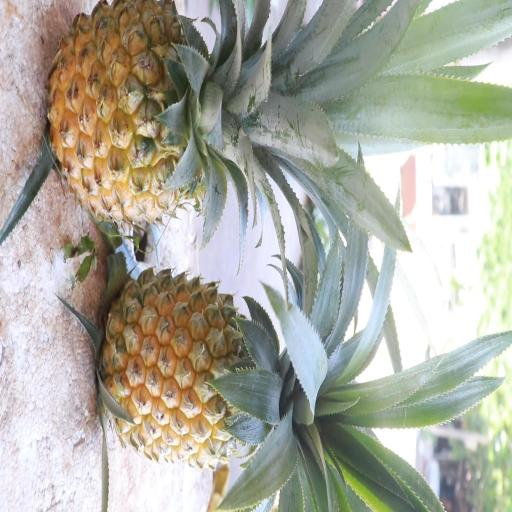Pineapple - v8 v1: (44, 1, 294, 231), (94, 262, 338, 477)
